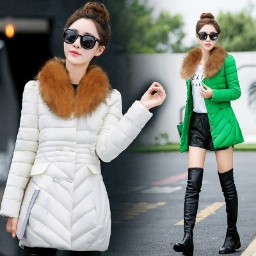face: (53, 1, 113, 75), (188, 10, 227, 59)
